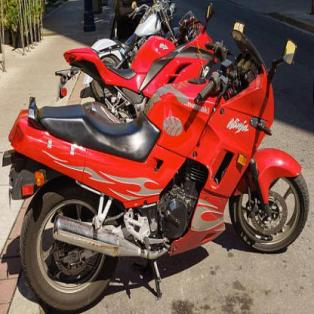Motocicleta: (0, 50, 312, 314)
